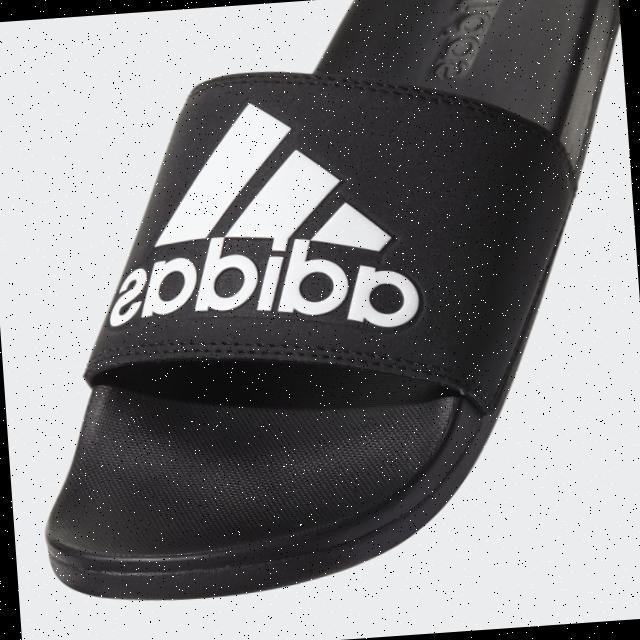Adidas: (90, 82, 426, 352)
